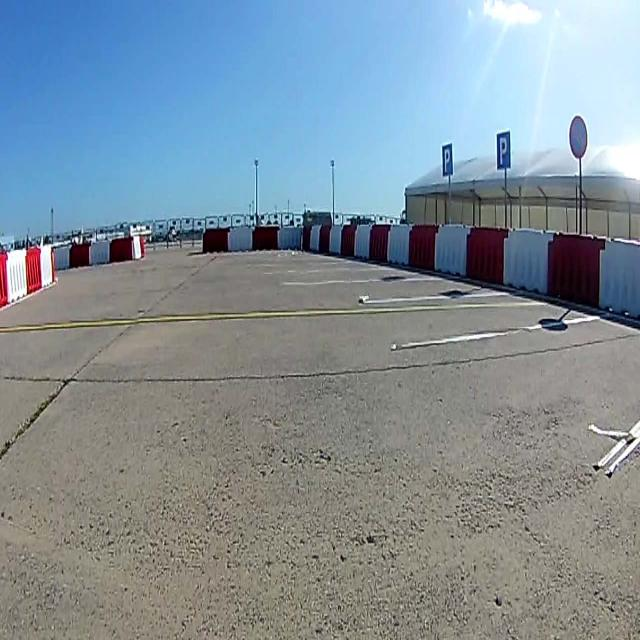park: (496, 130, 510, 170), (441, 143, 453, 177)
parkyasak: (569, 115, 587, 159)
